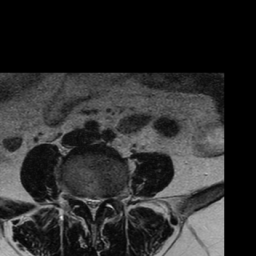CCS_normal: (89, 192, 96, 226)
LFS_severe_stenosis: (104, 190, 111, 207)
LLS_severe_stenosis: (96, 192, 104, 212)
RFS_severe_stenosis: (74, 189, 83, 207)
RLS_stenosis: (82, 192, 89, 213)
